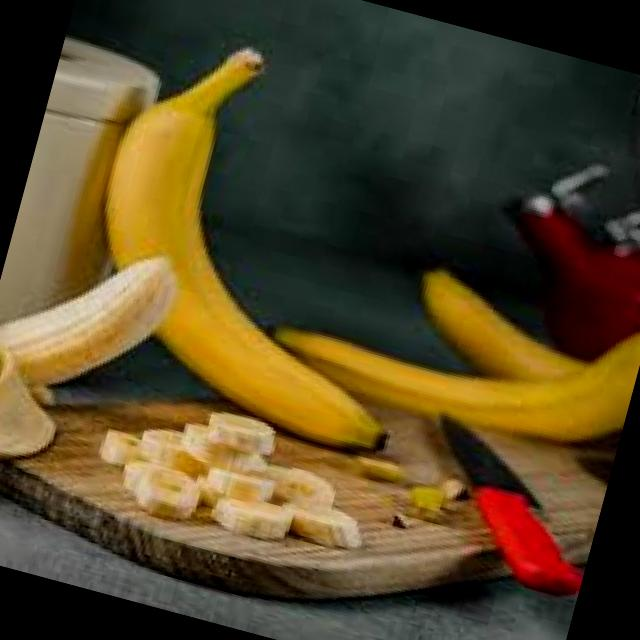Banana: (55, 18, 478, 460), (259, 208, 640, 465)
